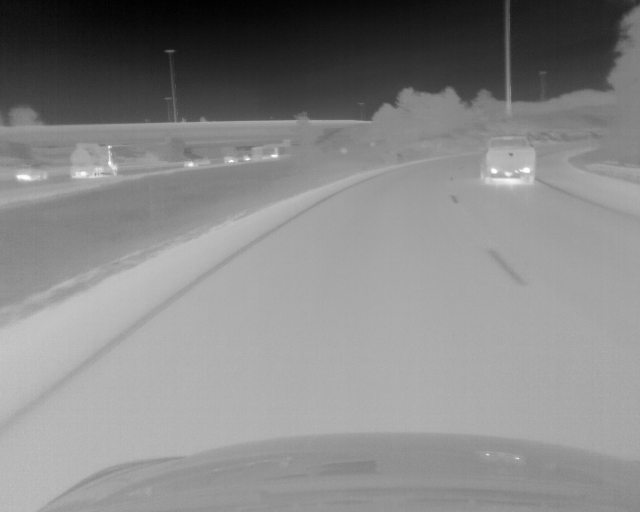car: (479, 137, 535, 185), (70, 142, 118, 178), (15, 163, 47, 181), (185, 157, 211, 167), (223, 154, 238, 164)
